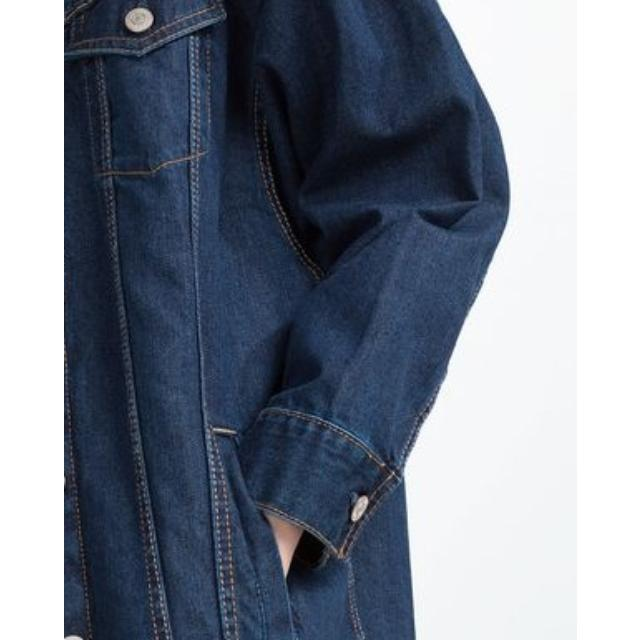denim: (64, 0, 350, 640)
